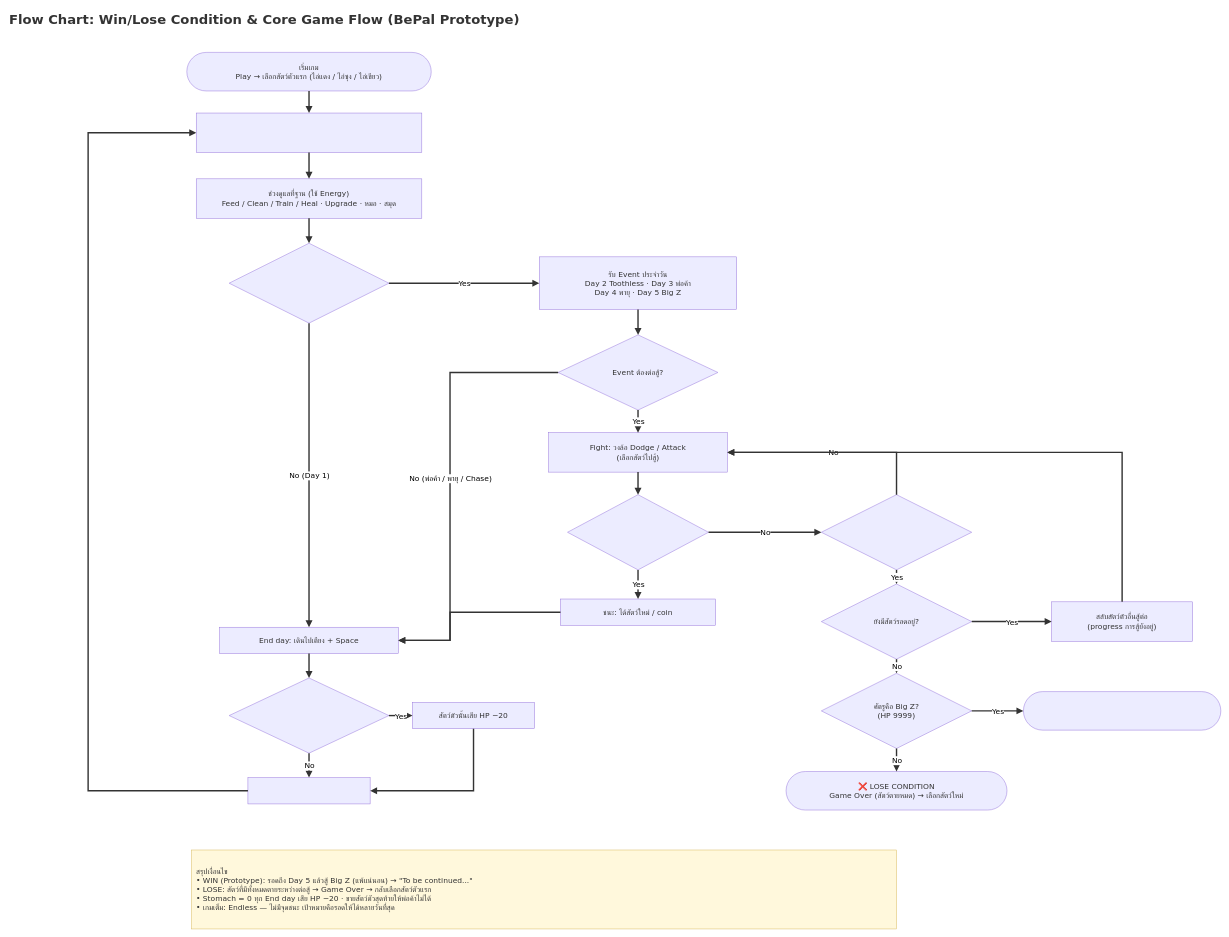
Some shapes in this 1229 by 937 pixel diagram are drawn without their labels. The shapes that lost their labels are listed below. From the top down, each one's centre as x and y in pixels, then its label:
At point (309, 133): "เริ่มวันใหม่ (Day N) +100 coin · Energy รีเซ็ต · Stomach −20 · Clean −15".
At point (309, 283): "มี Event ที่ประตู? (Day 2+)".
At point (638, 532): "HP ศัตรู = 0?".
At point (896, 532): "สัตว์ที่สู้ HP = 0?".
At point (309, 715): "มีสัตว์ Stomach = 0?".
At point (1122, 710): "🏆 WIN CONDITION (Prototype) รอดถึง Day 5 → To be continued...".
At point (308, 790): "Night → Day + 1".
